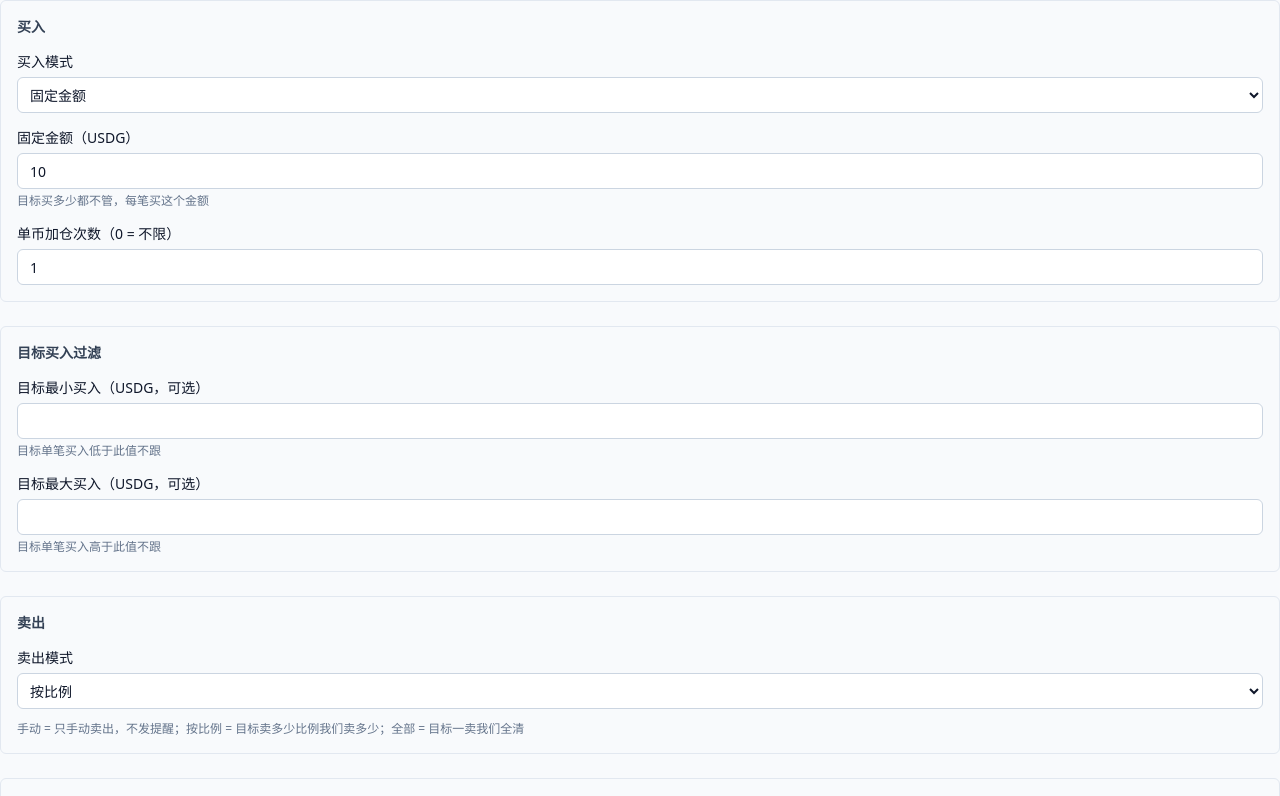
Test: switching mode resets the buy fields to that mode defaults and back
Step 1. Select "按比例" in the dropdown labelled "买入模式" → x=640, y=95, box top-left (17, 77), bottom-right (1263, 113)
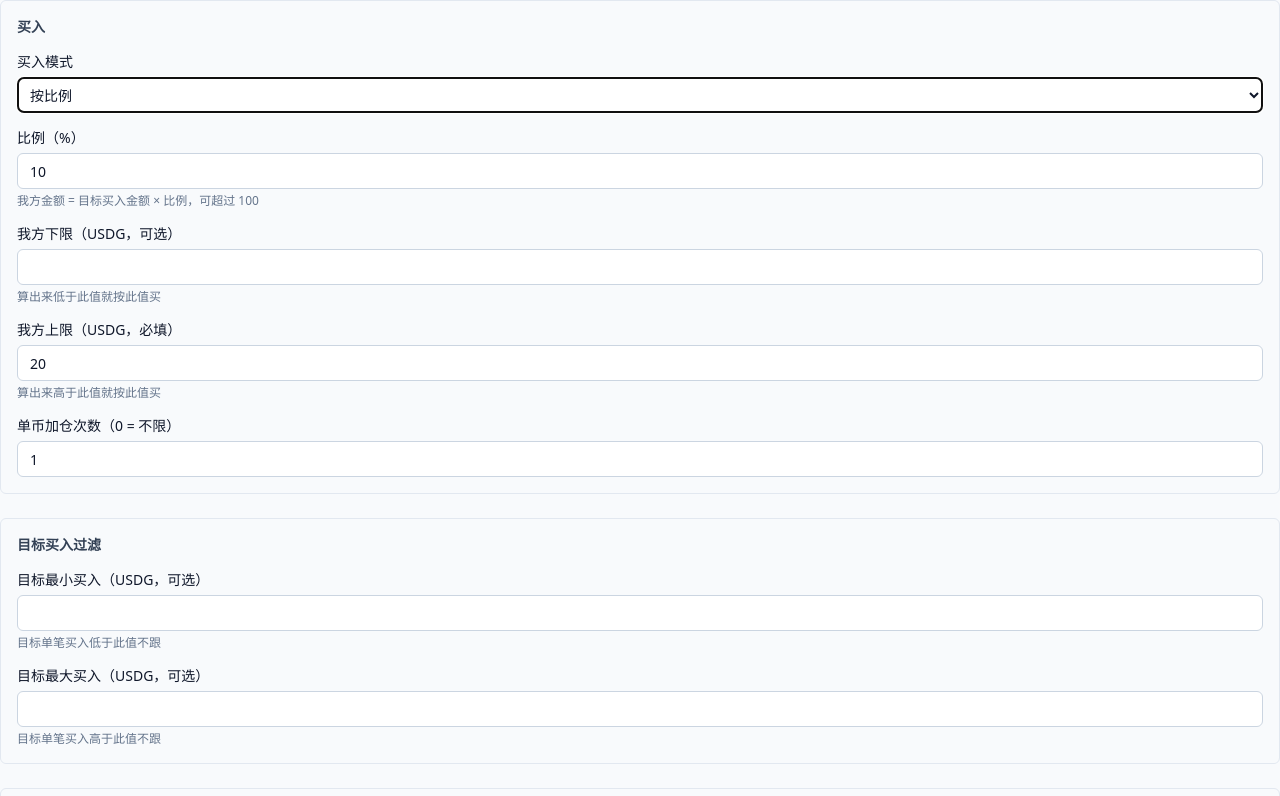
Step 2. Replace the text in the field labelled "我方上限（USDG，必填）" with "77" → x=640, y=363, box top-left (17, 345), bottom-right (1263, 381)
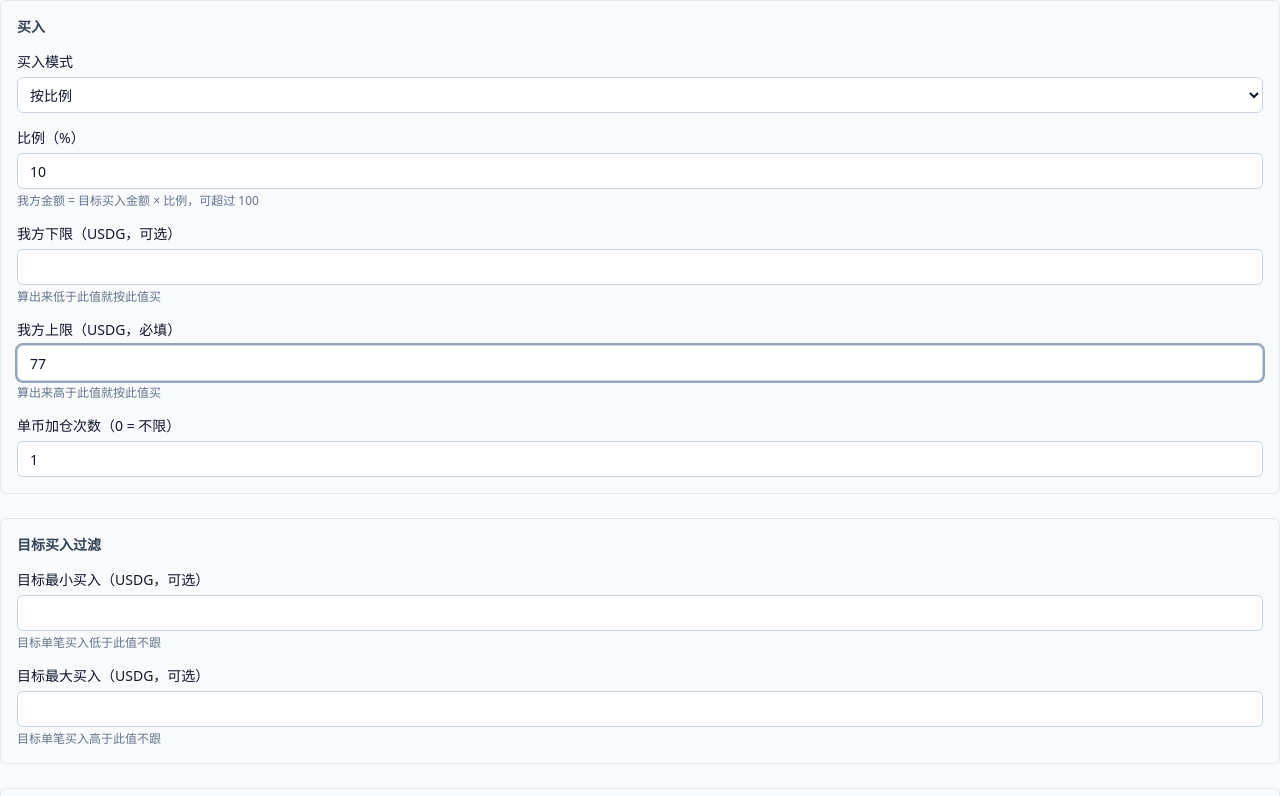
Step 3. Select "固定金额" in the dropdown labelled "买入模式" → x=640, y=95, box top-left (17, 77), bottom-right (1263, 113)
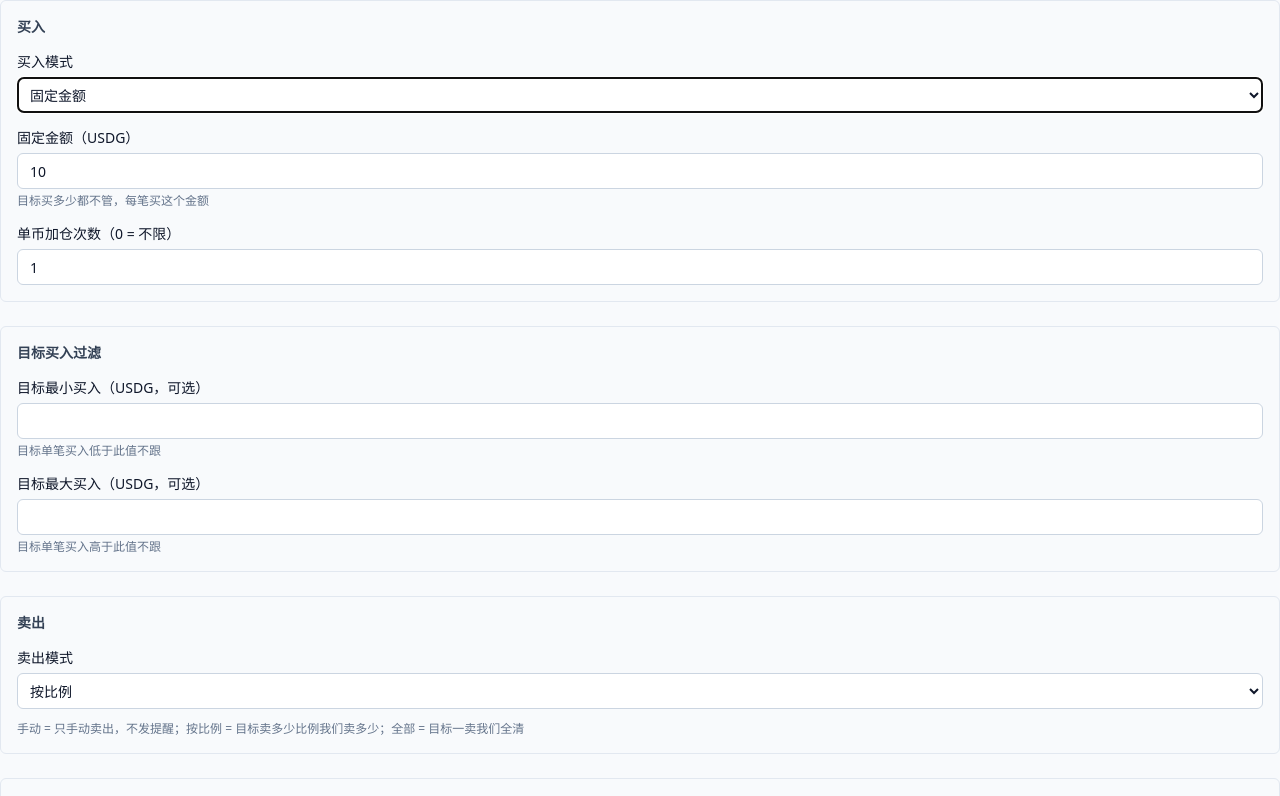
expect the field labelled "固定金额（USDG）" holds "10": met, box top-left (17, 153), bottom-right (1263, 189)
Step 4. Select "按比例" in the dropdown labelled "买入模式" → x=640, y=95, box top-left (17, 77), bottom-right (1263, 113)
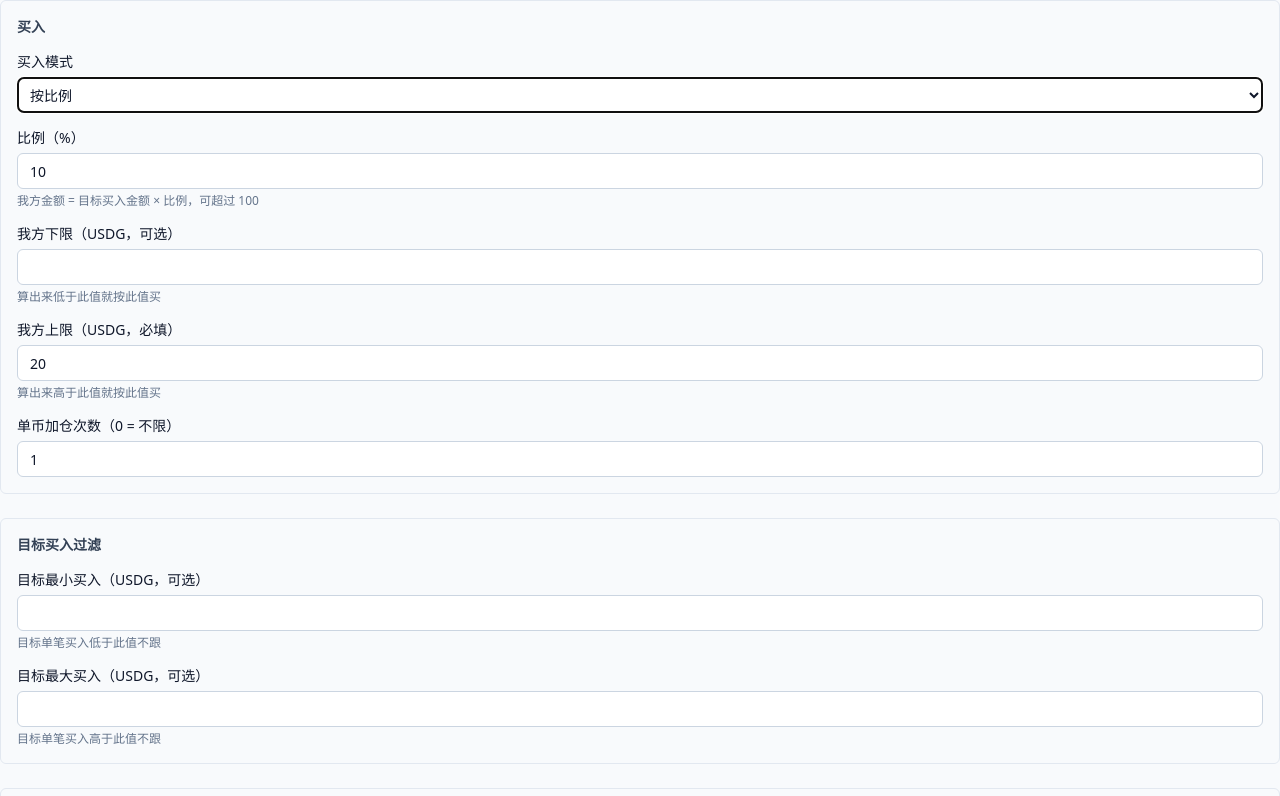
expect the field labelled "我方上限（USDG，必填）" holds "20": met, box top-left (17, 345), bottom-right (1263, 381)
